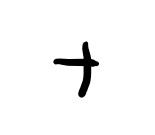plus: (53, 41, 99, 98)
